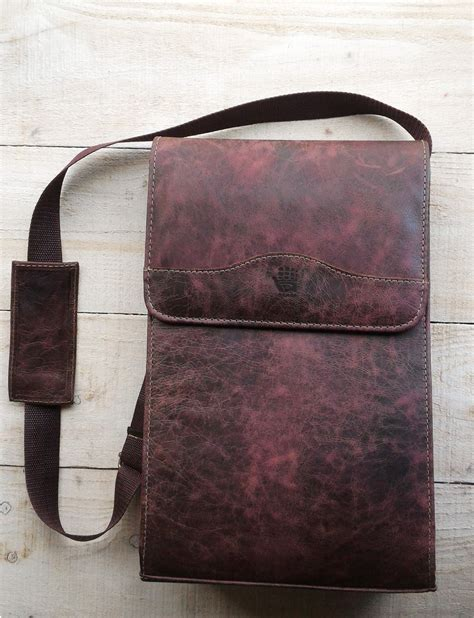cuero: (9, 89, 438, 593)
